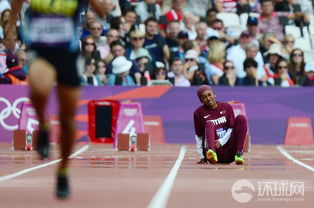10+: (6, 4, 309, 161)
down: (189, 80, 250, 167)
